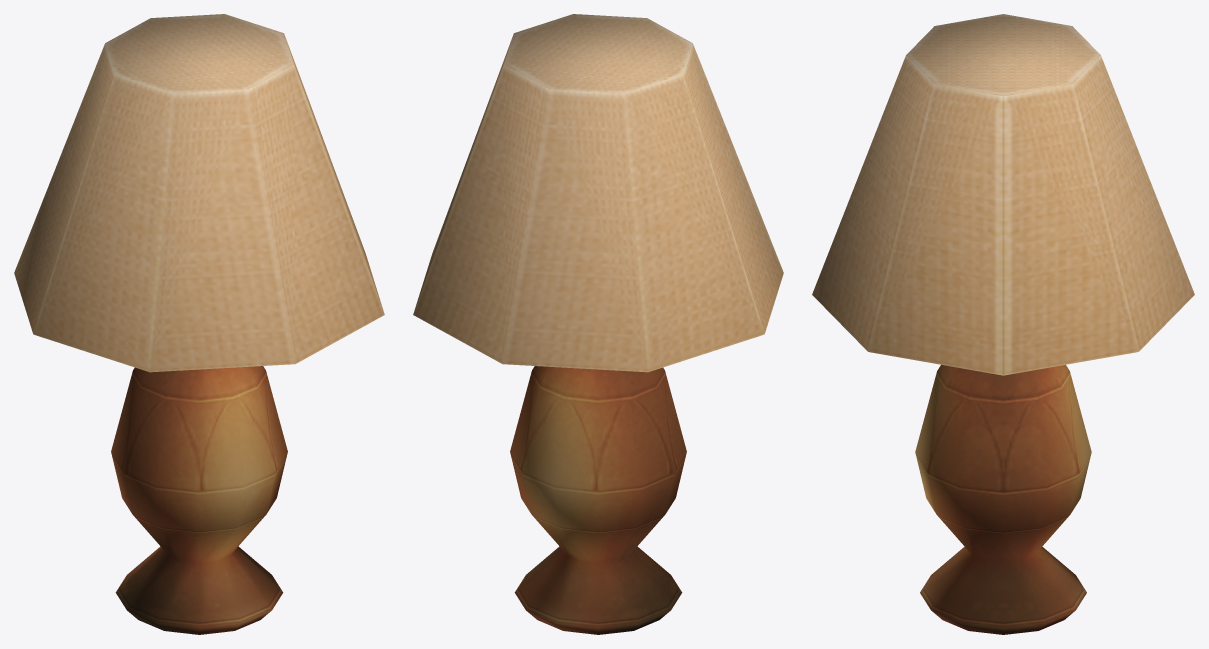
Rendered from DanShenGongYu_01_TaiDeng_01_UV2.FBX.
The picture shows the model from 3 angles, left to right: view 1: azimuth 30°, elevation 25°; view 2: azimuth 150°, elevation 25°; view 3: azimuth 270°, elevation 25°; orthographic projection.
Visible parts, largest first — view 1: DanShenGongYu_01_TaiDeng_01_UV2; view 2: DanShenGongYu_01_TaiDeng_01_UV2; view 3: DanShenGongYu_01_TaiDeng_01_UV2.
Part boxes in pixels (x1,y1,x2,y2): DanShenGongYu_01_TaiDeng_01_UV2: [14, 14, 384, 634]; DanShenGongYu_01_TaiDeng_01_UV2: [413, 14, 783, 634]; DanShenGongYu_01_TaiDeng_01_UV2: [812, 14, 1194, 634].
Bounding box in the file's own units: 178 × 282 × 178.
1 material, 1 textured.
